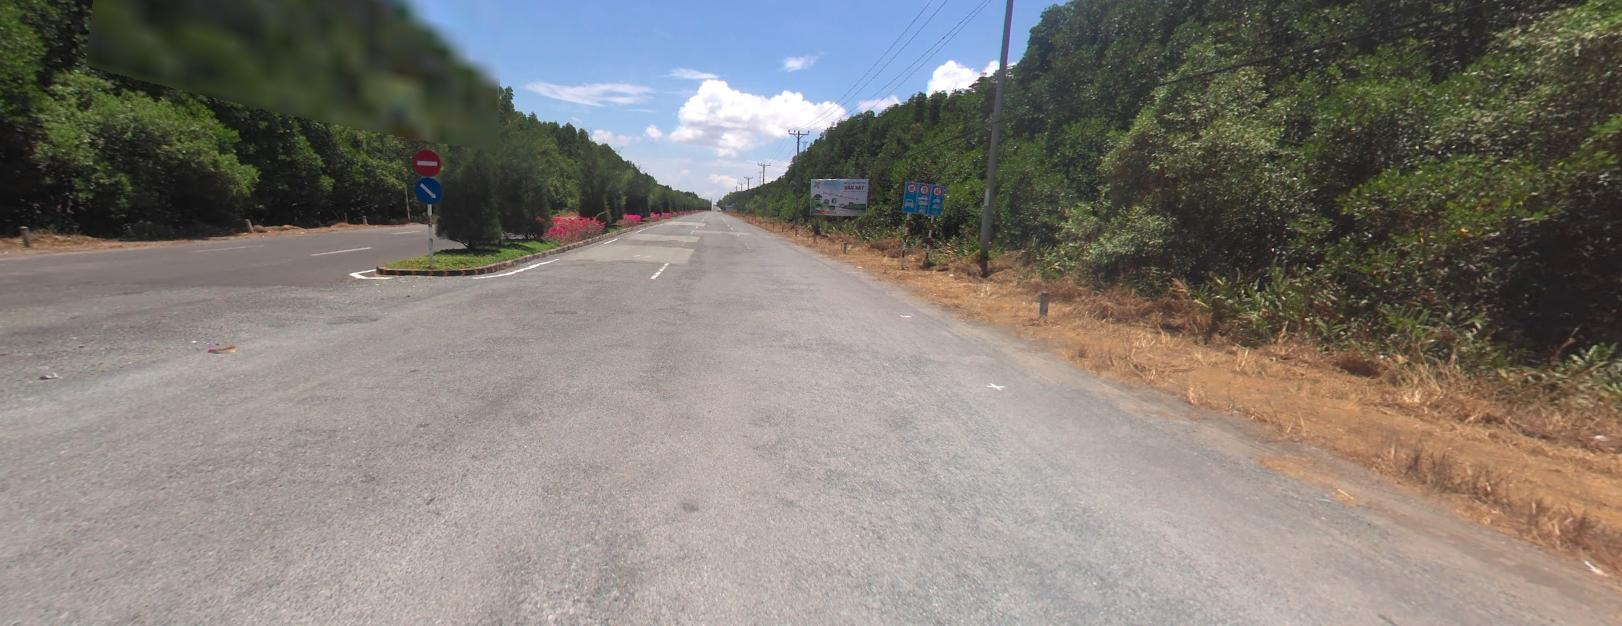Cam nguoc chieu: (412, 147, 440, 175)
Hieu lenh: (412, 176, 443, 203)
